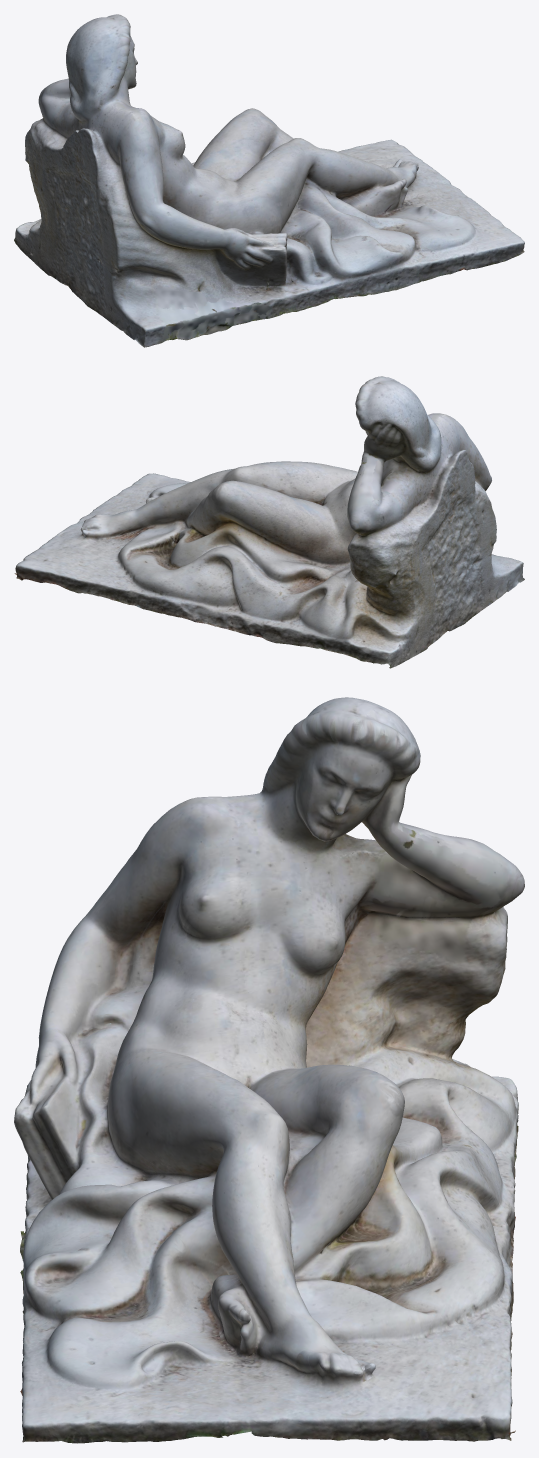
The model's file is Escultura.glb.
3 views of the same model, one above another, from view 1: azimuth 30°, elevation 25°; view 2: azimuth 150°, elevation 25°; view 3: azimuth 270°, elevation 25° (orthographic). The views are drawn at different scales.
Parts seen in each view (by area): view 1: Estatua_Baja; view 2: Estatua_Baja; view 3: Estatua_Baja.
Part boxes in pixels (box(x1,y1,x2,y2)): Estatua_Baja: box(14, 14, 524, 347); Estatua_Baja: box(14, 376, 524, 668); Estatua_Baja: box(14, 697, 524, 1443).
Size of the model in its own units: 8.23 by 5.19 by 5.21.
Materials: 1 (1 with a texture image).
